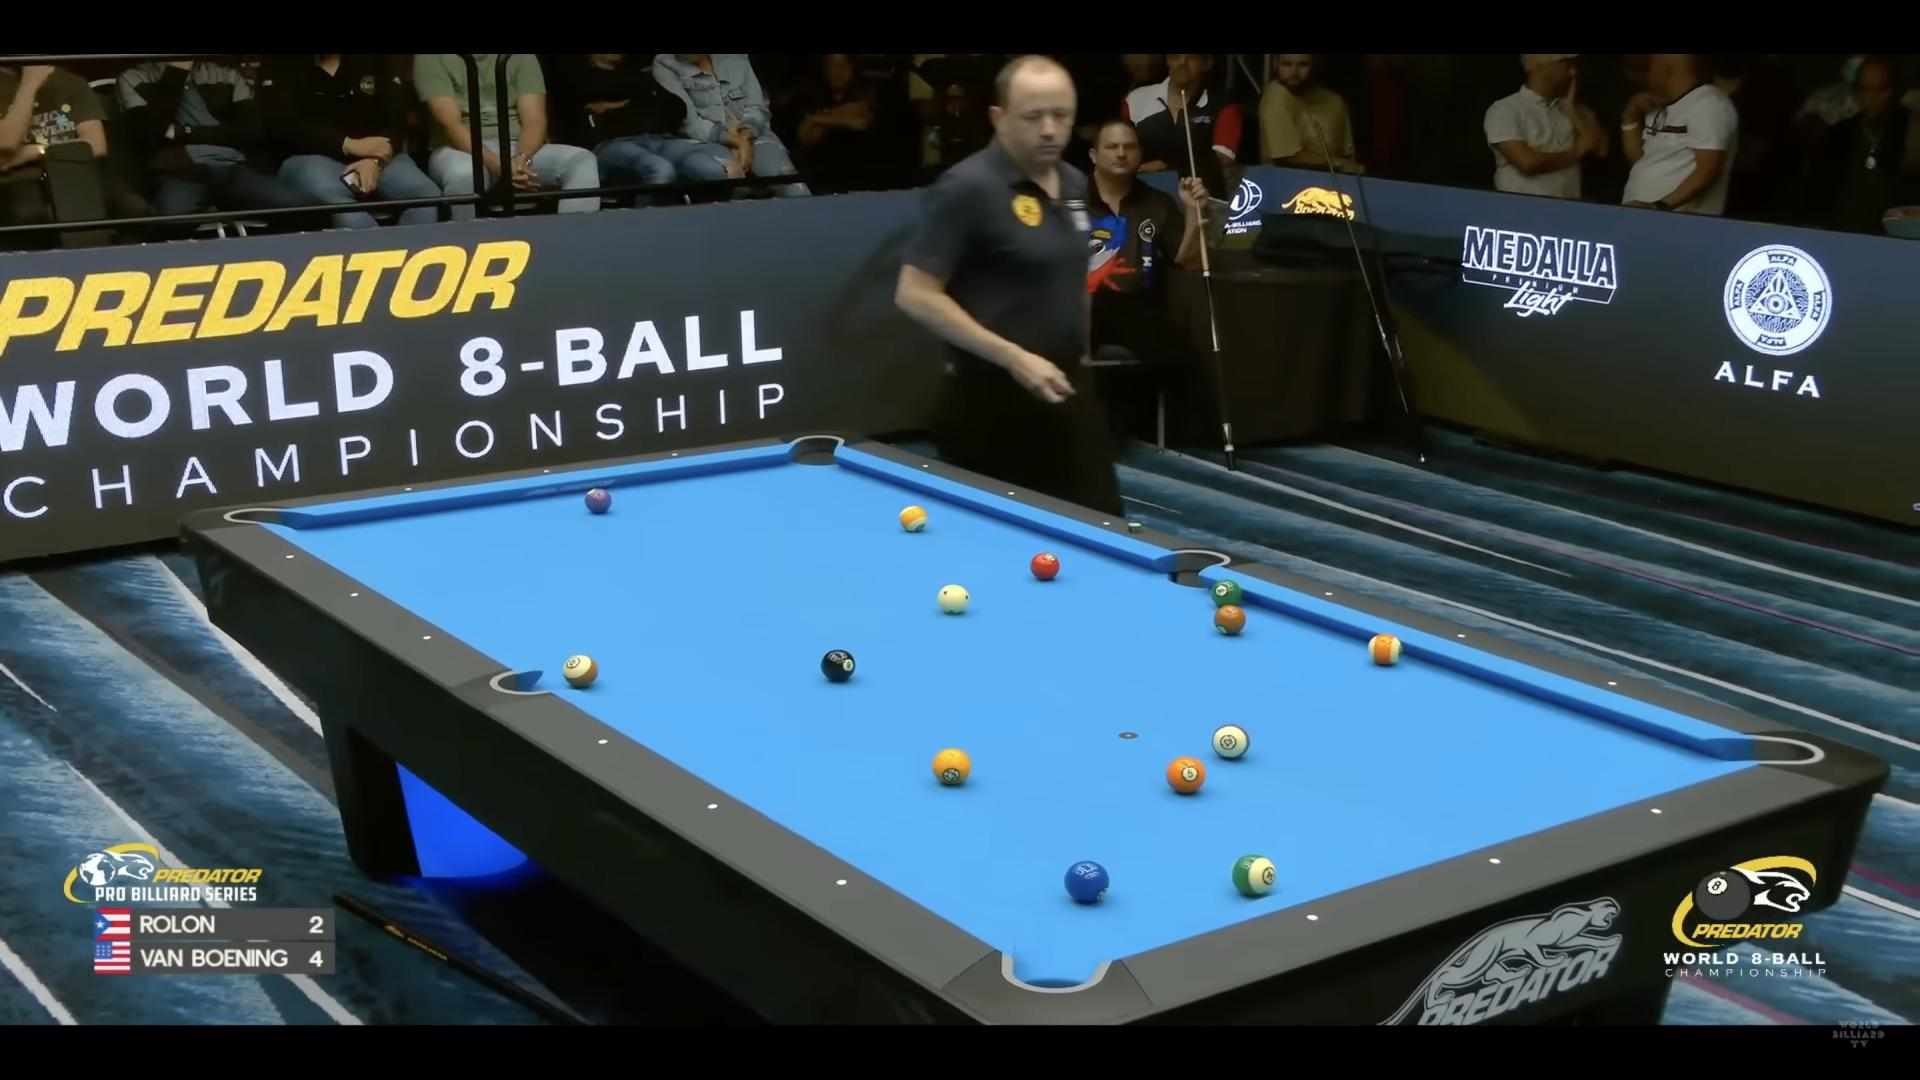Black: (820, 650, 856, 682)
Cue: (938, 583, 969, 613)
Dot: (1305, 911, 1319, 923), (1487, 855, 1501, 866), (1650, 804, 1663, 816), (836, 877, 847, 887), (542, 465, 553, 476), (670, 448, 680, 459), (597, 737, 609, 746), (402, 484, 414, 493), (708, 802, 719, 811), (422, 633, 433, 642), (349, 589, 359, 599), (285, 551, 294, 560), (1607, 679, 1617, 687), (1457, 632, 1466, 640), (1102, 520, 1112, 527), (1324, 589, 1332, 597), (1007, 489, 1015, 497), (922, 463, 930, 471)
Solid: (1065, 861, 1110, 901), (932, 748, 972, 786), (1166, 757, 1205, 794), (1215, 604, 1246, 634), (1211, 579, 1242, 607), (1030, 553, 1060, 579), (584, 488, 612, 513)
Striped: (1232, 855, 1276, 895), (1212, 724, 1250, 760), (562, 654, 597, 687), (1367, 633, 1403, 665), (899, 505, 928, 531)
